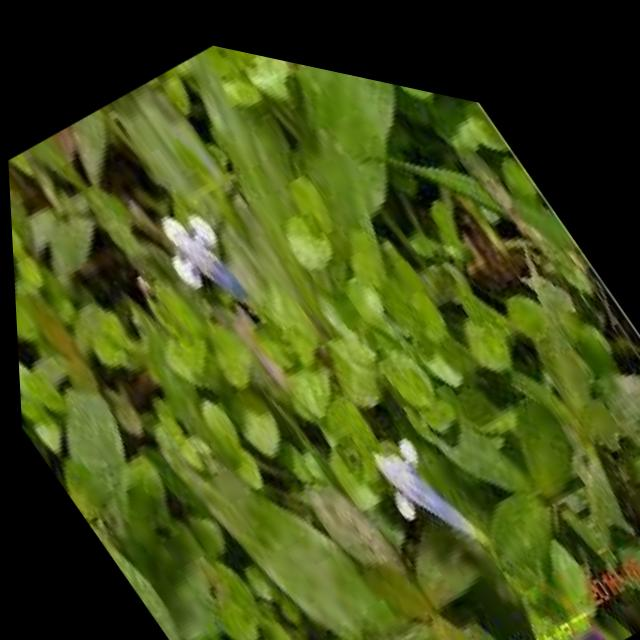Flower: (345, 385, 513, 584), (129, 169, 267, 334)
